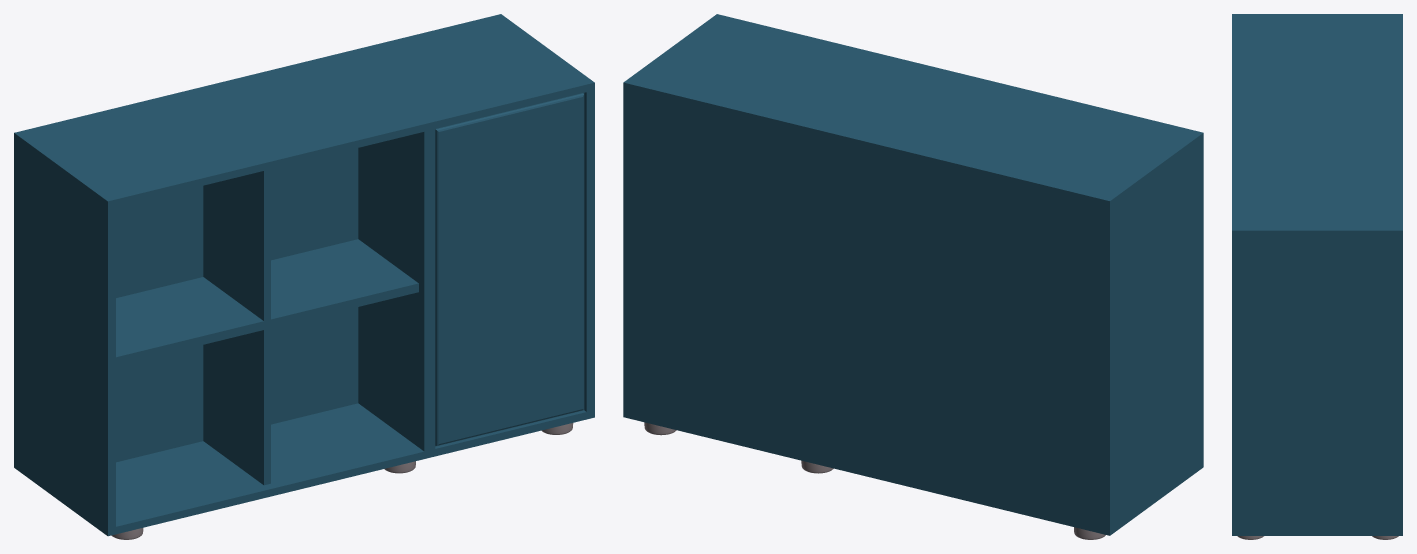
File: shelf.glb
3 renders of one model, left to right at view 1: azimuth 30°, elevation 25°; view 2: azimuth 150°, elevation 25°; view 3: azimuth 270°, elevation 25°, orthographic. The views are drawn at different scales.
Parts seen in each view (by area): view 1: Cube_1, Cylinder_2; view 2: Cube_1, Cylinder_2; view 3: Cube_1.
Part boxes in pixels (box(x1,y1,x2,y2)): Cube_1: box(14, 14, 594, 536); Cylinder_2: box(111, 423, 573, 539); Cube_1: box(623, 14, 1203, 535); Cylinder_2: box(644, 422, 1105, 539); Cube_1: box(1232, 14, 1402, 535).
Bounding box in the file's own units: 1.05 × 0.714 × 0.35.
